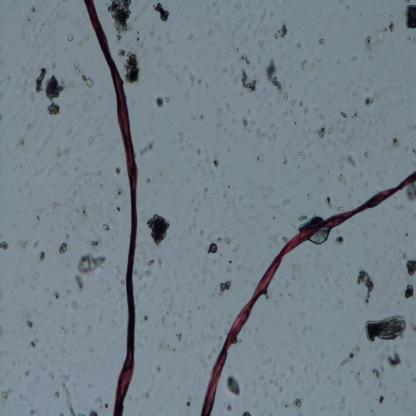Background material: (74, 251, 108, 291), (240, 115, 281, 146), (107, 1, 134, 43), (372, 344, 401, 381), (145, 210, 172, 248), (354, 267, 378, 304), (58, 370, 78, 414), (46, 74, 64, 118), (118, 48, 139, 84), (240, 57, 259, 96), (264, 56, 282, 94), (72, 63, 95, 91), (141, 254, 164, 278), (310, 229, 336, 249), (281, 395, 307, 414), (341, 344, 361, 368), (388, 130, 408, 153), (401, 2, 416, 31), (33, 66, 49, 93), (226, 373, 242, 399), (153, 2, 172, 23), (192, 188, 208, 212), (162, 333, 182, 352), (362, 34, 376, 61), (315, 122, 334, 141), (139, 137, 157, 157), (74, 205, 92, 223), (271, 23, 288, 41), (344, 151, 360, 170), (217, 276, 232, 296), (403, 281, 415, 304), (13, 237, 30, 252), (87, 235, 104, 250), (114, 264, 125, 287), (54, 241, 70, 256), (0, 385, 15, 401), (404, 259, 416, 278), (154, 95, 171, 108), (113, 183, 127, 198), (207, 241, 221, 256), (406, 182, 416, 203), (363, 93, 377, 108), (382, 21, 396, 34), (324, 196, 336, 210), (99, 221, 111, 235), (138, 313, 150, 325), (296, 213, 309, 224), (114, 165, 123, 179), (340, 108, 350, 120), (179, 132, 185, 152), (212, 153, 219, 170), (57, 149, 71, 157), (37, 251, 48, 261), (87, 134, 96, 146), (282, 91, 291, 102), (29, 338, 38, 349), (85, 326, 92, 340), (202, 166, 208, 182), (52, 290, 62, 299), (0, 240, 8, 251), (318, 36, 326, 47), (48, 370, 55, 382), (18, 136, 25, 148), (51, 201, 60, 210), (70, 300, 80, 308), (216, 108, 222, 120), (378, 394, 384, 406), (256, 154, 266, 161), (68, 32, 74, 43), (62, 275, 68, 286), (71, 224, 79, 232), (26, 324, 32, 334), (61, 326, 68, 334), (216, 120, 223, 128), (282, 155, 287, 166), (197, 147, 202, 157), (89, 409, 96, 416), (144, 177, 150, 184), (104, 402, 109, 409), (297, 151, 304, 156), (55, 392, 60, 398), (25, 370, 30, 376), (199, 114, 204, 120), (116, 206, 121, 212), (37, 214, 41, 221), (99, 206, 103, 212)
Cellulose filter fibre: (364, 313, 411, 343)
Cotton: (198, 180, 414, 416), (86, 0, 141, 412)
